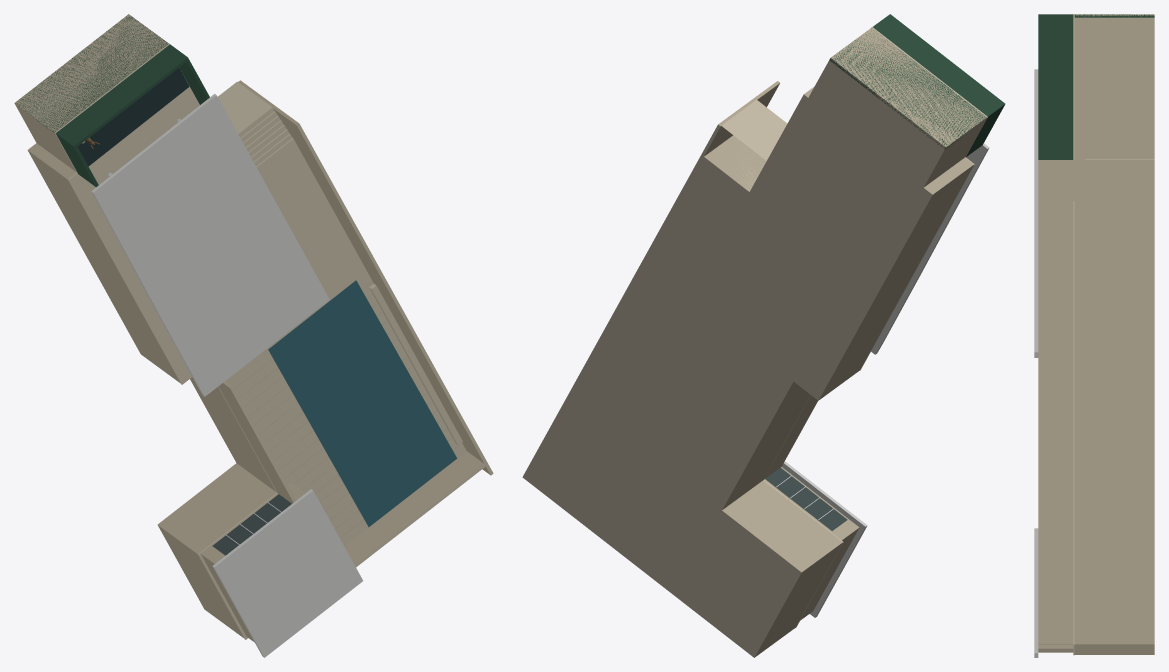
The model's file is pavello-mies.glb.
The picture shows the model from 3 angles, left to right: view 1: azimuth 30°, elevation 25°; view 2: azimuth 150°, elevation 25°; view 3: azimuth 270°, elevation 25°; orthographic projection. The views are drawn at different scales.
Visible parts, largest first — view 1: pavello-mies; view 2: pavello-mies; view 3: pavello-mies.
Part boxes in pixels (x1,y1,x2,y2): pavello-mies: (14,14,493,657); pavello-mies: (522,14,1005,657); pavello-mies: (1034,14,1154,657).
Bounding box in the file's own units: 42.27 × 59.32 × 10.65.
